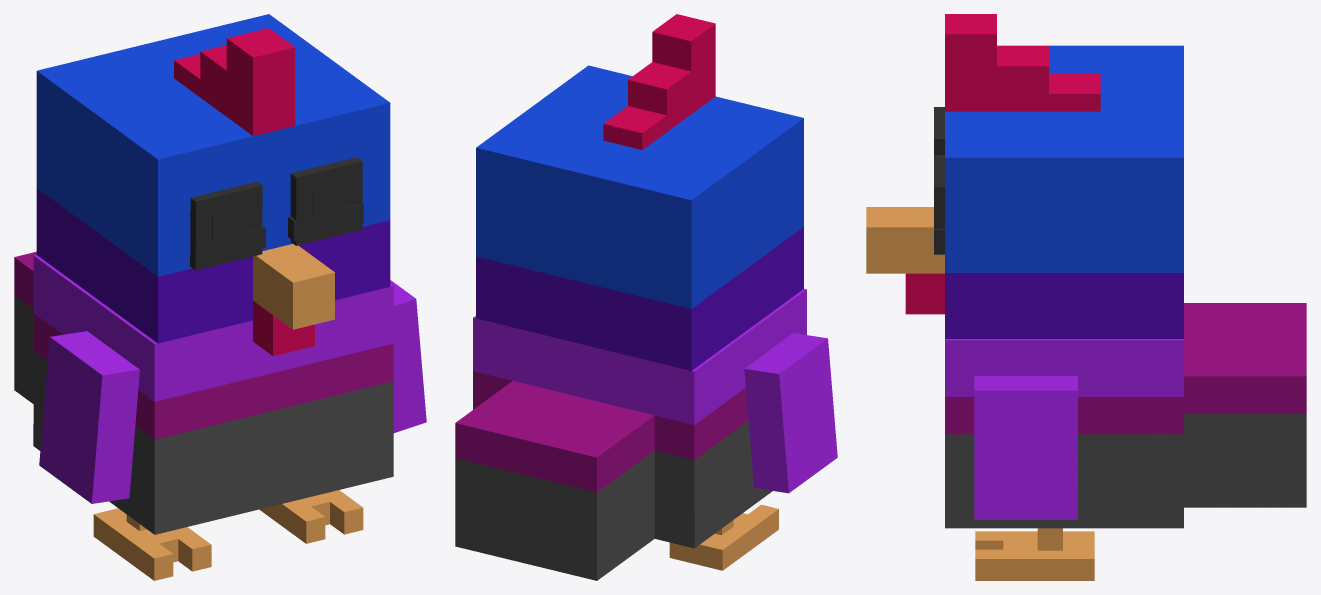
3 renders of one model, left to right at view 1: azimuth 30°, elevation 25°; view 2: azimuth 150°, elevation 25°; view 3: azimuth 270°, elevation 25°, orthographic. The views are drawn at different scales.
Parts seen in each view (by area): view 1: Ch_14_Head, Ch_14, Ch_14_Wing_L, Ch_14_Leg_L, Ch_14_Wing_R, Ch_14_Eye_03_R, Ch_14_Eye_03_L, Ch_14_Leg_R, Ch_14_Eye_01, Ch_14_Eye_02; view 2: Ch_14_Head, Ch_14, Ch_14_Wing_L, Ch_14_Leg_L; view 3: Ch_14_Head, Ch_14, Ch_14_Wing_R, Ch_14_Leg_R, Ch_14_Eye_03_R.
Boxes of the visible parts, x1,y1,x2,y2 form: Ch_14_Head: (36,14,390,356); Ch_14: (14,251,393,534); Ch_14_Wing_L: (39,331,139,503); Ch_14_Leg_L: (93,508,211,580); Ch_14_Wing_R: (390,280,426,432); Ch_14_Eye_03_R: (290,157,362,245); Ch_14_Eye_03_L: (190,181,262,270); Ch_14_Leg_R: (259,490,363,543); Ch_14_Eye_01: (212,177,346,254); Ch_14_Eye_02: (190,203,363,260); Ch_14_Head: (476,14,803,370); Ch_14: (455,289,806,580); Ch_14_Wing_L: (744,333,837,493); Ch_14_Leg_L: (669,504,778,570); Ch_14_Head: (866,14,1183,338); Ch_14: (945,303,1306,528); Ch_14_Wing_R: (974,376,1077,519); Ch_14_Leg_R: (975,528,1094,580); Ch_14_Eye_03_R: (934,155,944,254).
Bounding box in the file's own units: 8.4 × 12.32 × 9.7.
